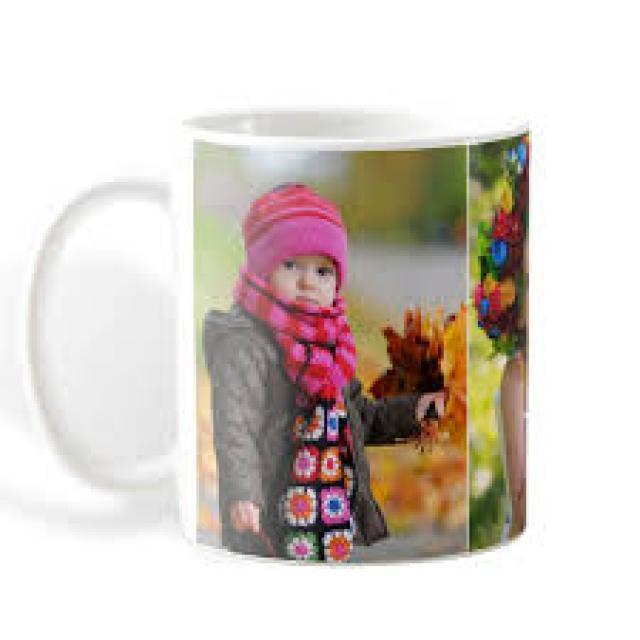taza: (24, 86, 542, 568)
